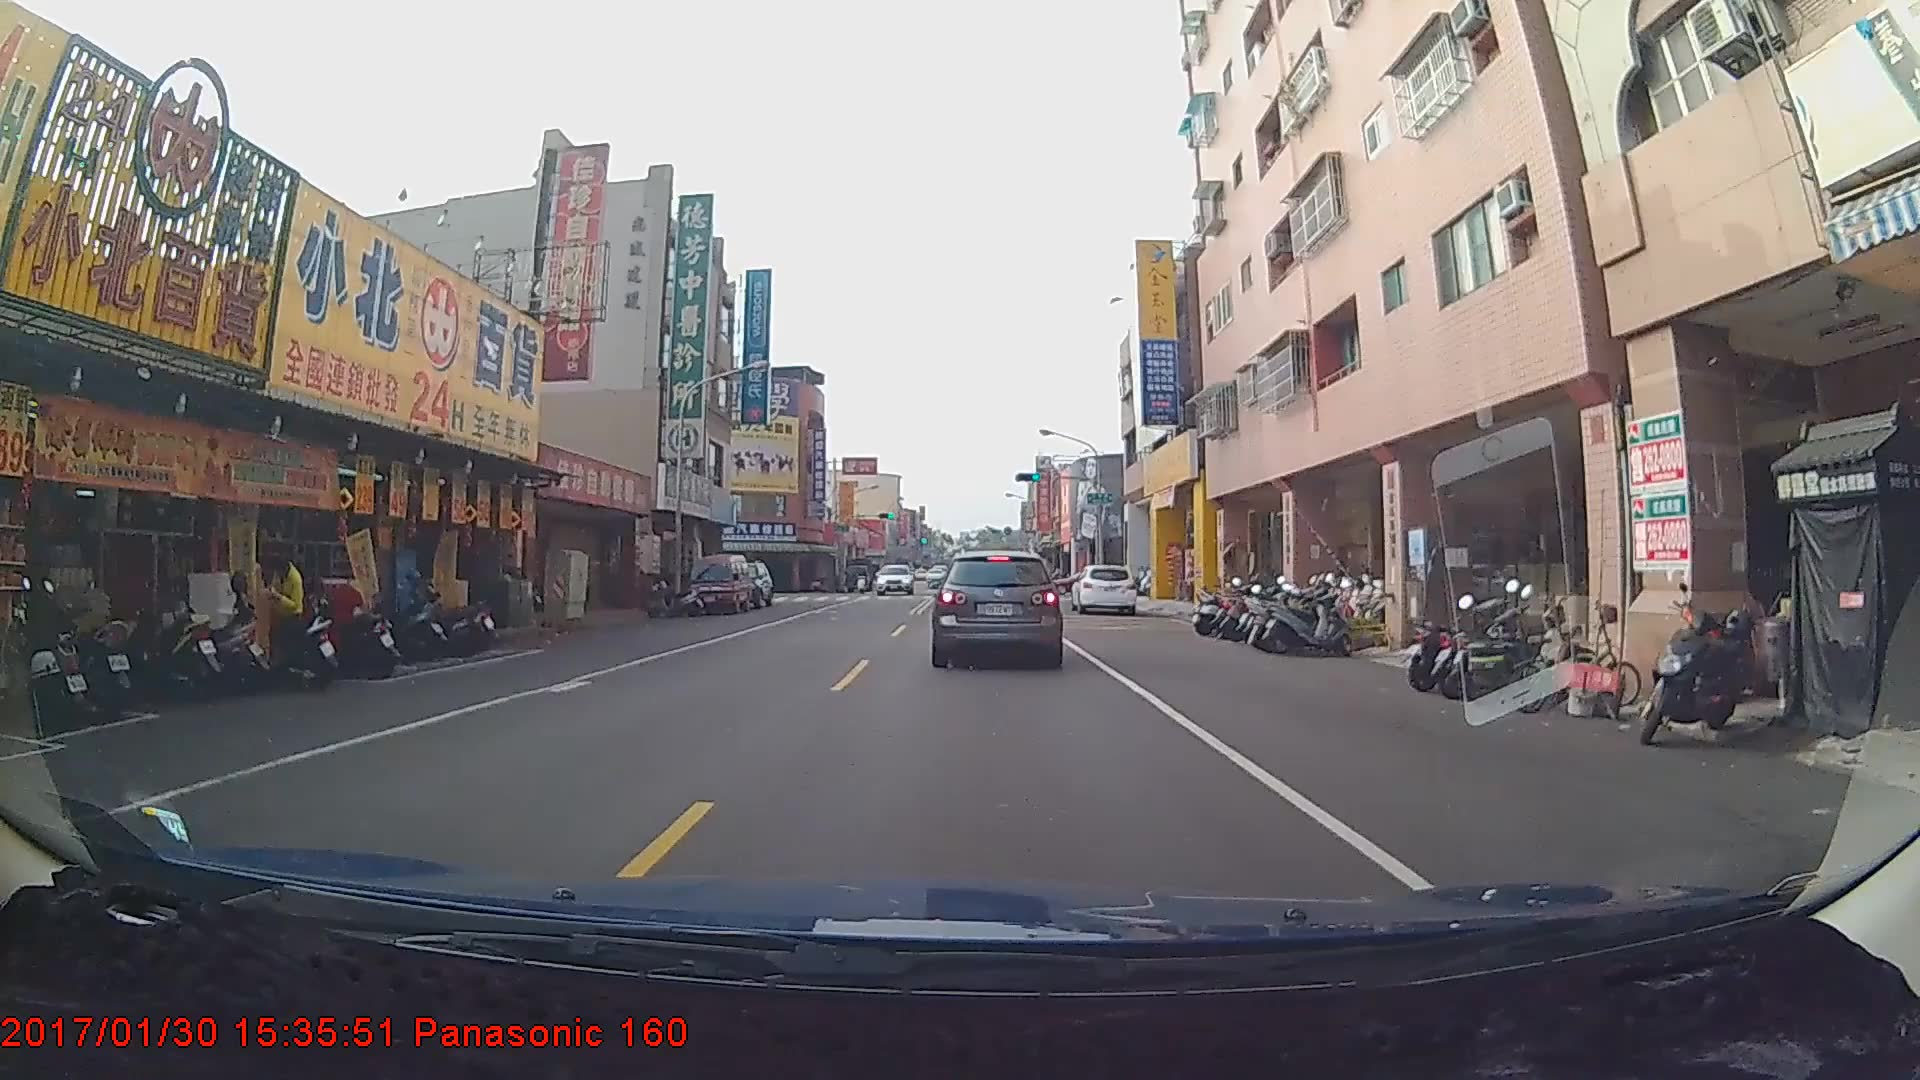pedestrian: (258, 546, 308, 666)
vehicle: (932, 549, 1063, 666), (689, 559, 750, 624), (1070, 564, 1137, 616), (871, 559, 914, 595)
